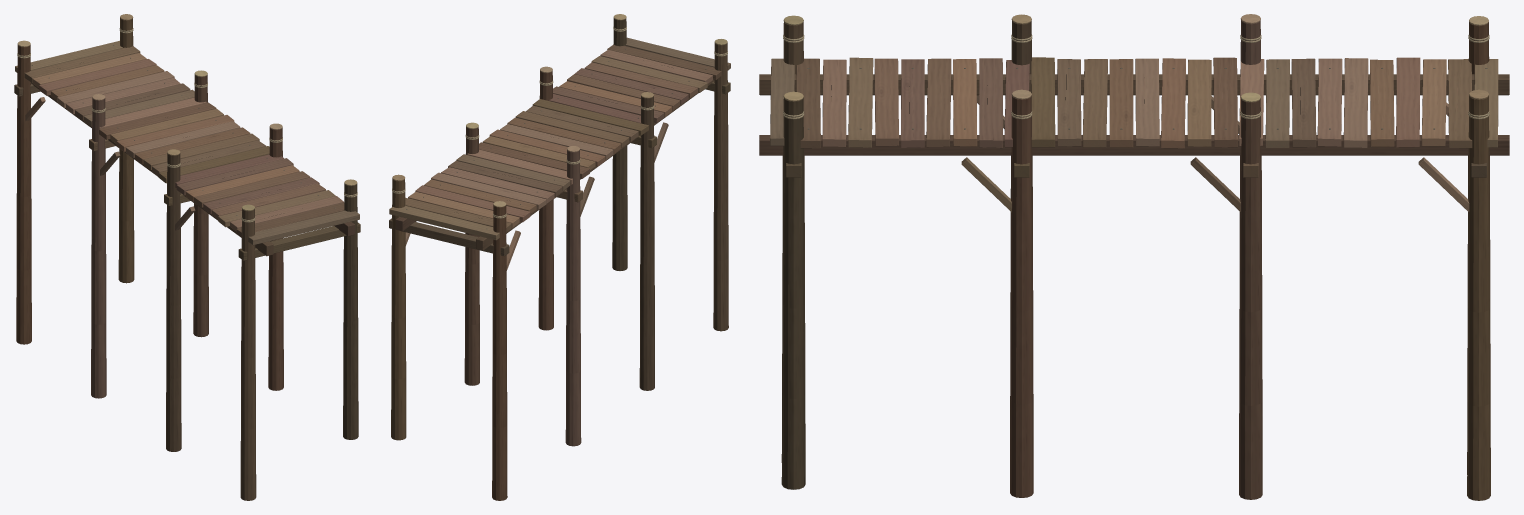
Rendered from harbor_landing_mcp.glb.
3 views of the same model, side by side, from view 1: azimuth 30°, elevation 25°; view 2: azimuth 150°, elevation 25°; view 3: azimuth 270°, elevation 25° (orthographic). The views are drawn at different scales.
Parts seen in each view (by area): view 1: ArrivalOriginalDeck, WaterPile_Arrival_-1_0.001, WaterPile_Arrival_-1_1.001, WaterPile_Arrival_-1_2.001, WaterPile_Arrival_-1_3.001, WaterPile_Arrival_1_3.001, Arrival bridge framing, WaterPile_Arrival_1_2.001, WaterPile_Arrival_1_1.001, WaterPile_Arrival_1_0.001, Arrival pins binding; view 2: ArrivalOriginalDeck, WaterPile_Arrival_-1_0.001, WaterPile_Arrival_-1_1.001, WaterPile_Arrival_-1_3.001, WaterPile_Arrival_-1_2.001, WaterPile_Arrival_1_0.001, Arrival bridge framing, WaterPile_Arrival_1_1.001, WaterPile_Arrival_1_2.001, WaterPile_Arrival_1_3.001, Arrival pins binding; view 3: ArrivalOriginalDeck, Arrival bridge framing, WaterPile_Arrival_1_0.001, WaterPile_Arrival_1_2.001, WaterPile_Arrival_1_1.001, WaterPile_Arrival_1_3.001, WaterPile_Arrival_-1_3.001, WaterPile_Arrival_-1_2.001, WaterPile_Arrival_-1_1.001, WaterPile_Arrival_-1_0.001, Arrival pins binding.
Boxes of the visible parts, box(x1,y1,x2,y2) form: ArrivalOriginalDeck: box(15, 40, 359, 245); WaterPile_Arrival_-1_0.001: box(16, 45, 31, 344); WaterPile_Arrival_-1_1.001: box(91, 98, 106, 398); WaterPile_Arrival_-1_2.001: box(166, 153, 181, 451); WaterPile_Arrival_-1_3.001: box(240, 209, 256, 500); WaterPile_Arrival_1_3.001: box(343, 183, 358, 439); Arrival bridge framing: box(14, 14, 360, 260); WaterPile_Arrival_1_2.001: box(268, 127, 283, 390); WaterPile_Arrival_1_1.001: box(193, 74, 208, 337); WaterPile_Arrival_1_0.001: box(118, 18, 134, 283); Arrival pins binding: box(17, 28, 357, 222); ArrivalOriginalDeck: box(389, 37, 730, 240); WaterPile_Arrival_-1_0.001: box(492, 205, 507, 500); WaterPile_Arrival_-1_1.001: box(565, 150, 581, 446); WaterPile_Arrival_-1_3.001: box(713, 43, 728, 331); WaterPile_Arrival_-1_2.001: box(639, 96, 654, 390); WaterPile_Arrival_1_0.001: box(391, 179, 406, 440); Arrival bridge framing: box(389, 14, 730, 270); WaterPile_Arrival_1_1.001: box(464, 127, 479, 385); WaterPile_Arrival_1_2.001: box(538, 71, 553, 330); WaterPile_Arrival_1_3.001: box(612, 18, 627, 270); Arrival pins binding: box(392, 26, 727, 229); ArrivalOriginalDeck: box(770, 57, 1498, 148); Arrival bridge framing: box(759, 14, 1509, 212); WaterPile_Arrival_1_0.001: box(1467, 96, 1490, 500); WaterPile_Arrival_1_2.001: box(1010, 96, 1033, 497); WaterPile_Arrival_1_1.001: box(1239, 99, 1262, 499); WaterPile_Arrival_1_3.001: box(781, 98, 805, 489); WaterPile_Arrival_-1_3.001: box(781, 22, 805, 462); WaterPile_Arrival_-1_2.001: box(1010, 21, 1033, 428); WaterPile_Arrival_-1_1.001: box(1239, 20, 1262, 444); WaterPile_Arrival_-1_0.001: box(1467, 22, 1490, 474); Arrival pins binding: box(783, 34, 1489, 129).
Size of the model in its own units: 2.22 by 5.43 by 8.06.
Materials: 3 (1 with a texture image).
